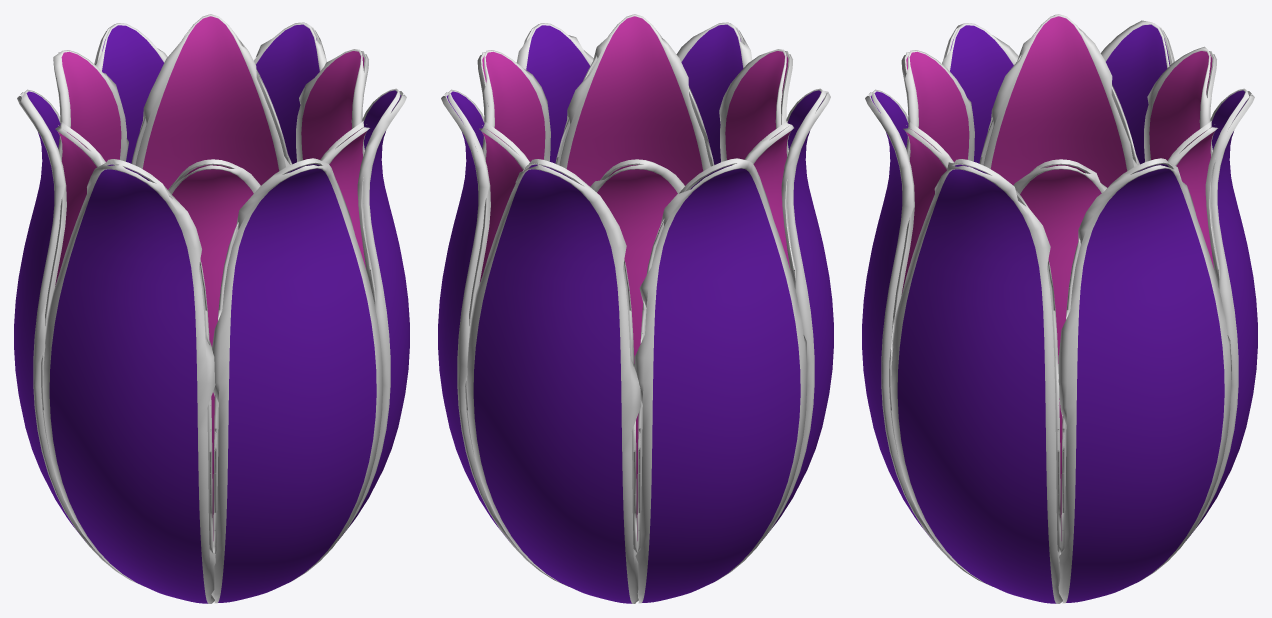
File: Flower.fbx
3 renders of one model, left to right at view 1: azimuth 30°, elevation 25°; view 2: azimuth 150°, elevation 25°; view 3: azimuth 270°, elevation 25°, orthographic.
Parts seen in each view (by area): view 1: Sphere.001, Sphere; view 2: Sphere.001, Sphere; view 3: Sphere.001, Sphere.
Boxes of the visible parts, x1,y1,x2,y2 form: Sphere.001: [14, 22, 409, 603]; Sphere: [53, 14, 369, 540]; Sphere.001: [438, 22, 833, 603]; Sphere: [477, 14, 793, 540]; Sphere.001: [862, 20, 1257, 603]; Sphere: [901, 14, 1217, 540].
Size of the model in its own units: 79.51 by 110 by 78.73.
